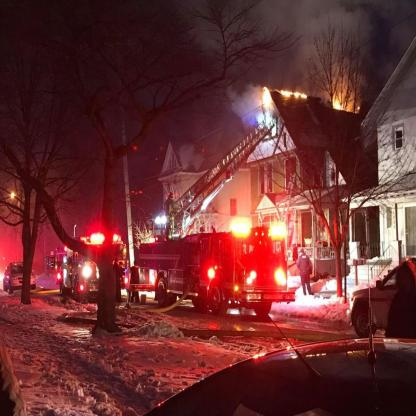fire: (254, 76, 312, 108), (327, 88, 363, 114)
other: (224, 209, 256, 241), (267, 216, 290, 242), (241, 265, 262, 291), (85, 228, 110, 247), (272, 266, 290, 290), (204, 262, 219, 288), (78, 260, 95, 278), (152, 213, 170, 227)
